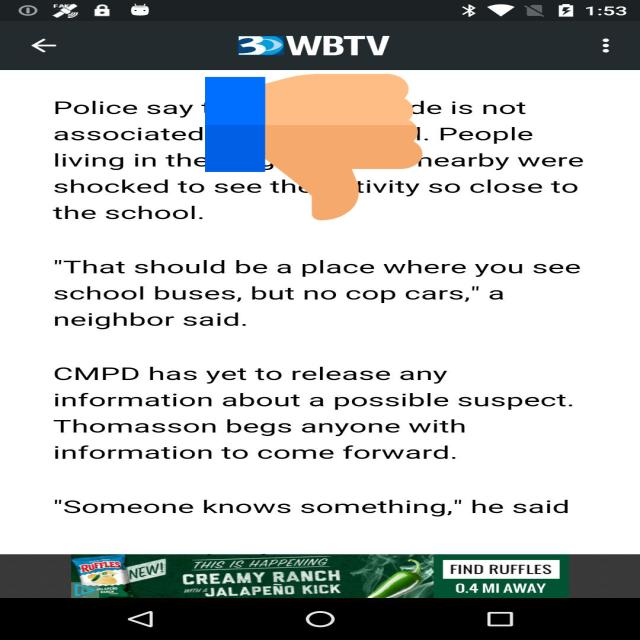obstruction: (205, 70, 423, 224)
